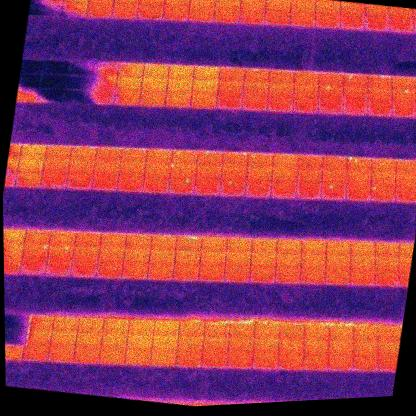Diode: (175, 233, 202, 254)
Hotspot: (219, 176, 247, 199), (320, 180, 347, 203), (168, 174, 196, 196), (146, 145, 173, 167), (121, 144, 148, 166), (370, 184, 397, 205), (196, 148, 224, 168), (170, 147, 198, 167), (173, 248, 201, 268), (203, 319, 231, 339), (366, 72, 394, 92), (246, 149, 273, 169), (221, 149, 248, 169), (22, 241, 49, 261), (27, 313, 54, 333), (346, 155, 373, 174), (24, 227, 51, 246), (72, 244, 99, 263), (25, 328, 52, 347), (169, 162, 197, 180), (342, 70, 368, 89), (338, 0, 367, 17), (318, 84, 345, 102), (242, 80, 269, 98), (47, 242, 74, 260), (390, 86, 416, 104)
Normal: (69, 257, 98, 281), (116, 171, 144, 195), (19, 254, 47, 278), (244, 178, 273, 201), (372, 266, 401, 289), (44, 256, 73, 279), (193, 176, 221, 199), (142, 172, 170, 195), (90, 170, 118, 193), (65, 169, 93, 192), (95, 259, 123, 282), (200, 347, 228, 370), (250, 349, 279, 371), (248, 250, 278, 271), (19, 140, 47, 162), (295, 180, 323, 202), (269, 178, 297, 200), (313, 9, 341, 31), (40, 169, 68, 191), (348, 237, 376, 259), (299, 236, 327, 258), (249, 235, 277, 257), (348, 266, 376, 288), (298, 265, 326, 287), (187, 3, 215, 25), (146, 262, 174, 284), (176, 333, 204, 355), (175, 348, 203, 370), (98, 345, 126, 367), (67, 157, 96, 178), (323, 237, 352, 258), (224, 249, 253, 270), (248, 264, 277, 285), (152, 318, 181, 339), (326, 337, 355, 358), (127, 317, 156, 338), (301, 336, 330, 357), (300, 351, 329, 372), (225, 350, 254, 371), (149, 348, 178, 369), (273, 251, 303, 271), (168, 61, 195, 83), (113, 87, 140, 109), (70, 142, 97, 164), (44, 141, 71, 163), (124, 231, 151, 253), (274, 265, 301, 287), (173, 261, 200, 283), (366, 97, 394, 118), (164, 90, 192, 111), (296, 151, 324, 172), (271, 151, 299, 172), (338, 11, 366, 32), (344, 183, 372, 204), (92, 157, 120, 178), (148, 247, 176, 268), (198, 263, 226, 284), (136, 2, 164, 23), (326, 352, 354, 373), (276, 350, 304, 371), (73, 345, 101, 366), (47, 343, 75, 364), (368, 155, 397, 175), (287, 9, 316, 29), (177, 319, 206, 339), (123, 347, 152, 367), (390, 98, 416, 120), (218, 64, 245, 85), (191, 77, 218, 98), (341, 96, 368, 117), (316, 96, 343, 117), (266, 94, 293, 115), (190, 91, 217, 112), (139, 88, 166, 109), (345, 168, 372, 189), (296, 166, 323, 187), (143, 159, 170, 180), (264, 7, 291, 28), (239, 5, 266, 26), (275, 236, 302, 257), (225, 235, 252, 256), (200, 234, 227, 255), (149, 232, 176, 253), (99, 230, 126, 251), (123, 246, 150, 267), (162, 2, 189, 23), (121, 261, 148, 282), (112, 0, 139, 21), (352, 352, 379, 373), (23, 342, 50, 363), (142, 61, 170, 81), (216, 78, 244, 98), (215, 92, 243, 112), (369, 170, 397, 190), (320, 166, 348, 186), (95, 144, 123, 164), (270, 165, 298, 185), (363, 13, 391, 33), (42, 155, 70, 175), (324, 252, 352, 272), (213, 6, 241, 26), (299, 251, 327, 271), (74, 229, 102, 249), (323, 266, 351, 286), (223, 264, 251, 284), (351, 338, 379, 358), (102, 317, 130, 337), (77, 316, 105, 336), (51, 314, 79, 334), (227, 335, 255, 355), (202, 334, 230, 354), (151, 333, 179, 353), (126, 332, 154, 352), (100, 331, 128, 351), (140, 75, 169, 94), (74, 330, 103, 349), (352, 324, 378, 345), (193, 63, 220, 83), (117, 59, 144, 79), (115, 74, 142, 94), (291, 96, 318, 116), (241, 93, 268, 113), (321, 153, 348, 173), (387, 14, 414, 34), (195, 163, 222, 183), (49, 228, 76, 248), (97, 245, 124, 265), (327, 324, 354, 344), (86, 0, 113, 20), (253, 322, 280, 342), (317, 69, 344, 89), (267, 81, 295, 100), (166, 76, 194, 95), (220, 163, 248, 182), (373, 253, 401, 272), (349, 253, 377, 272), (199, 249, 227, 268), (302, 324, 330, 343), (252, 336, 280, 355), (49, 330, 77, 349), (392, 156, 416, 178), (392, 183, 416, 205), (15, 169, 41, 189), (292, 82, 319, 101), (245, 163, 272, 182), (118, 160, 145, 179), (17, 156, 44, 175), (373, 240, 400, 259), (278, 323, 305, 342), (228, 321, 255, 340), (278, 337, 305, 356), (293, 69, 320, 88), (267, 67, 294, 86), (3, 225, 26, 247), (243, 66, 270, 84), (366, 85, 393, 103), (314, 0, 342, 17), (342, 84, 368, 102), (390, 73, 416, 91), (393, 170, 416, 189), (5, 340, 24, 361), (264, 0, 292, 14), (290, 0, 316, 15), (240, 0, 267, 12), (215, 0, 242, 11), (189, 0, 216, 10), (138, 0, 166, 8), (164, 0, 191, 8), (113, 0, 140, 7), (88, 0, 115, 5), (62, 0, 89, 5)
Shadow: (63, 70, 92, 94), (65, 57, 94, 80), (61, 86, 91, 108), (37, 71, 66, 93), (40, 57, 68, 79), (35, 85, 64, 106), (92, 57, 120, 78), (89, 72, 117, 93), (87, 87, 115, 108), (61, 0, 88, 18), (5, 311, 28, 332), (4, 239, 24, 260), (5, 326, 26, 346), (4, 253, 21, 276), (38, 0, 65, 2)
